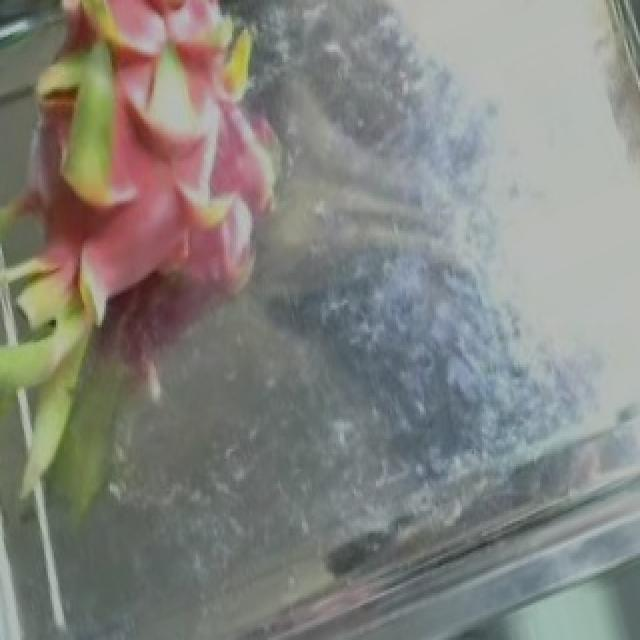fruit: (0, 2, 338, 436)
